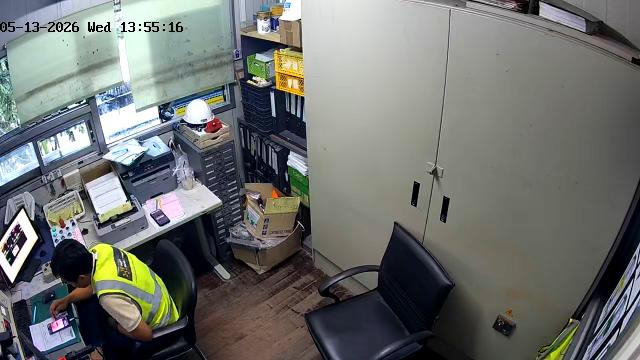Head: (51, 239, 92, 287)
People: (51, 240, 178, 359)
Phone: (48, 316, 70, 334), (150, 209, 169, 226)
